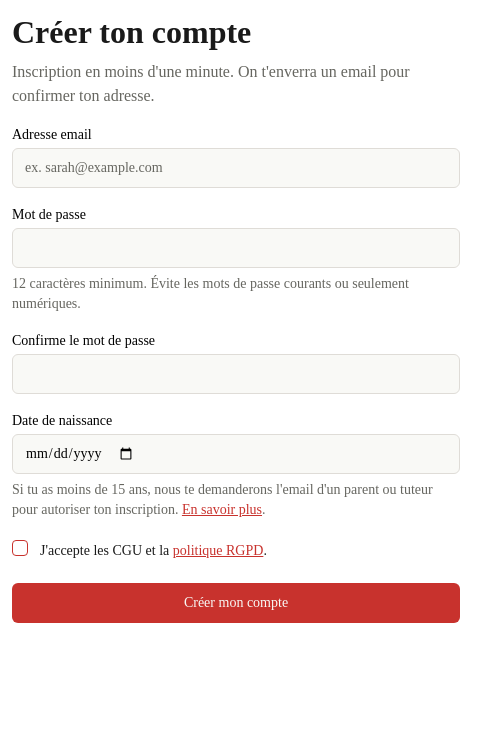
Test: SignupForm › surfaces the API Problem detail when signup fails
Type "sarah@example.test" into the field labelled "Adresse email" at (236, 168), box [12,148,460,188]
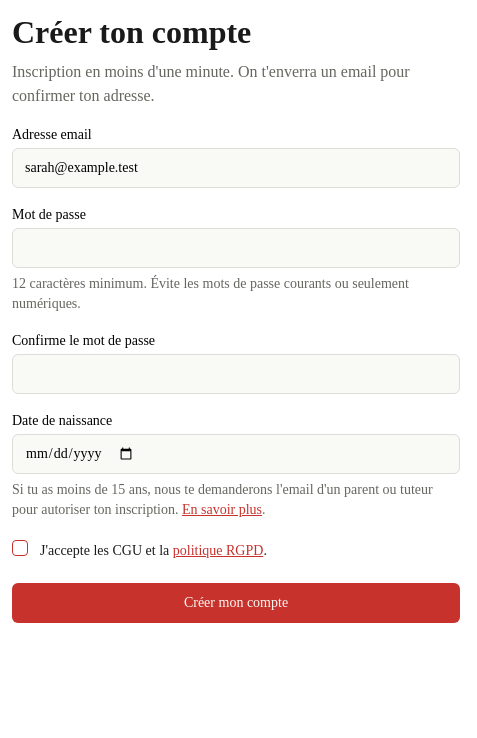
Type "Path-Advisor-2026!" into the password field labelled "Mot de passe" at (236, 248), box [12,228,460,268]
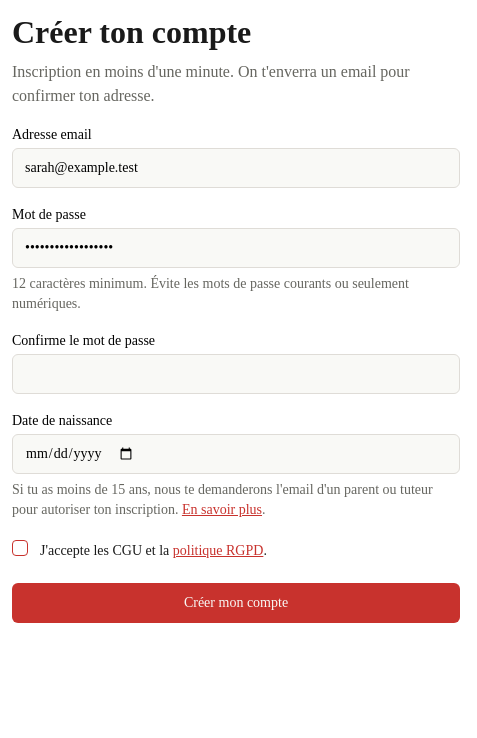
Type "Path-Advisor-2026!" into the password field labelled "Confirme le mot de passe" at (236, 374), box [12,354,460,394]
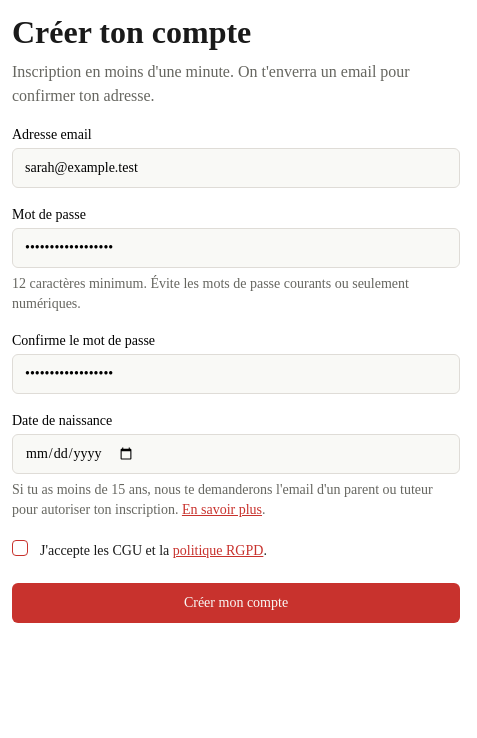
Type "2008-01-15" into the date field labelled "Date de naissance" at (236, 454), box [12,434,460,474]
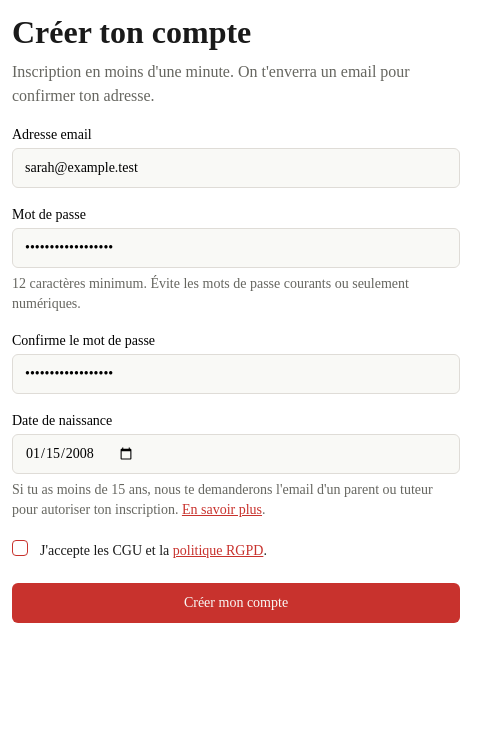
Click the checkbox at (20, 548), box [12,540,28,556]
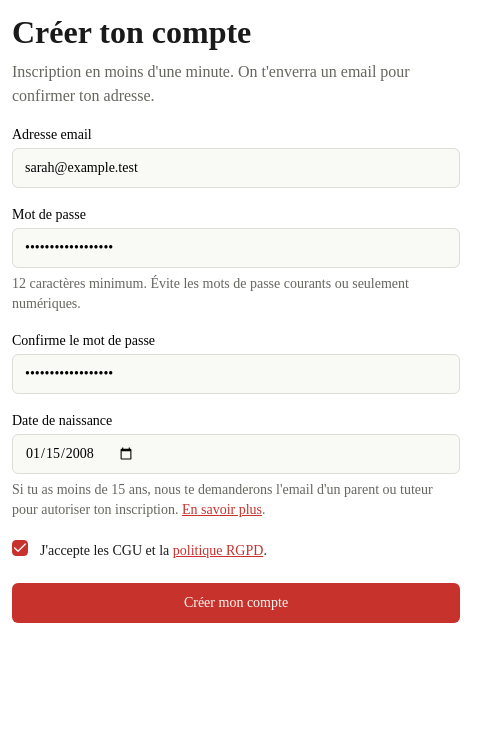
Click the button "Créer mon compte" at (236, 603), box [12,583,460,623]
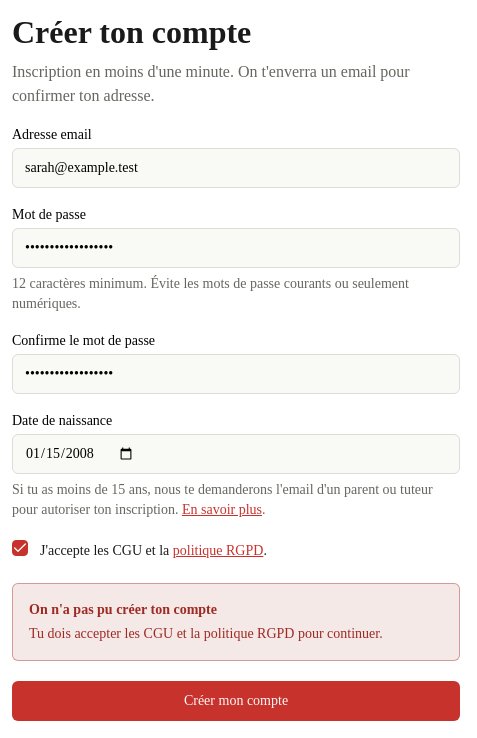
expect the message is shown: met, box [12,583,460,661]
expect the message shows "RGPD": met, box [29,626,383,641]
